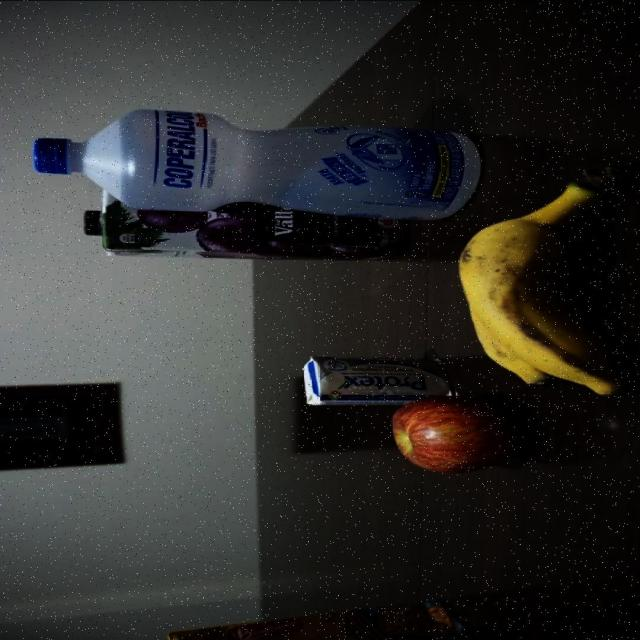AlcoholBottle: (33, 108, 487, 220)
Apple: (389, 394, 519, 474)
Banana: (457, 163, 640, 397)
Cracker: (167, 598, 480, 640)
Soap: (303, 356, 455, 406)
